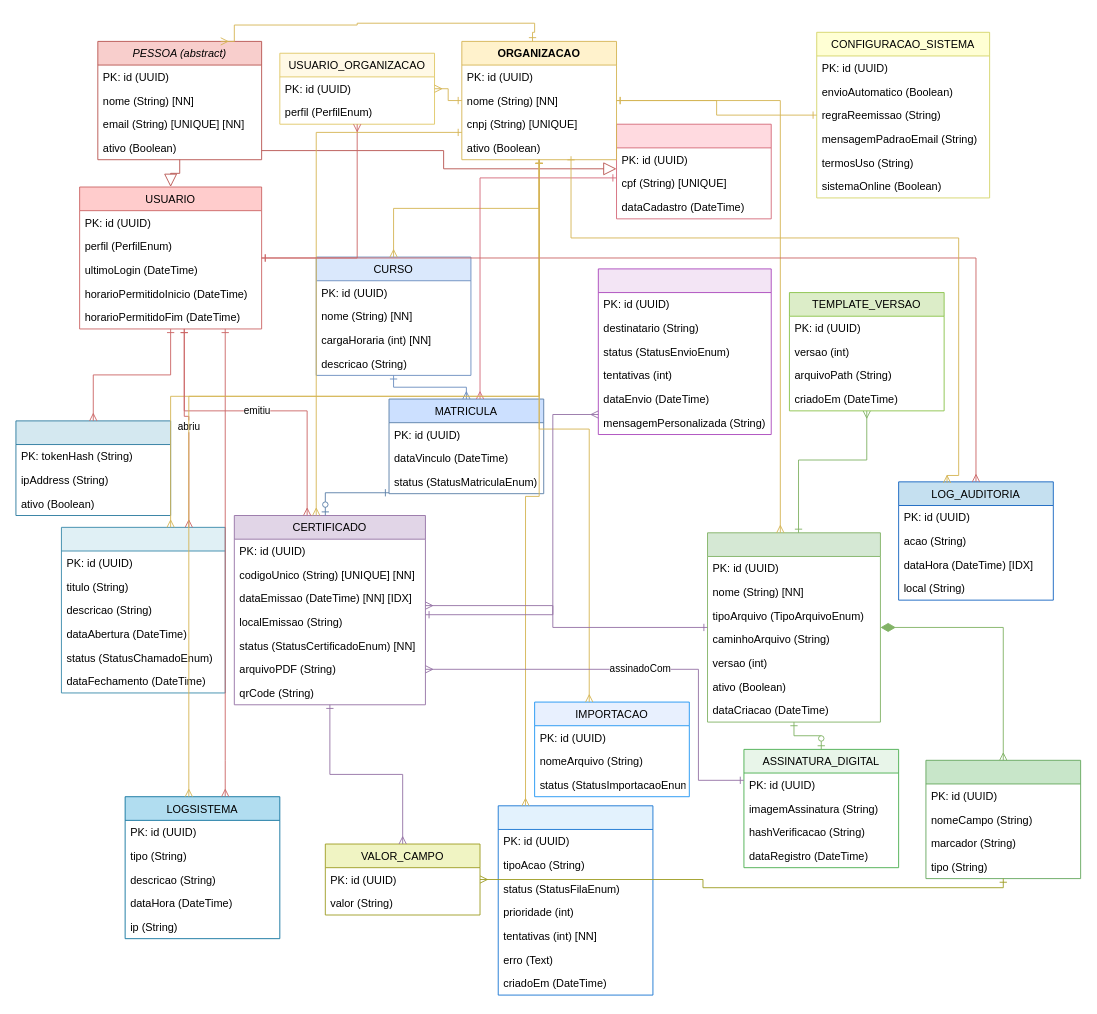
Some shapes in this 1097 by 1014 pixel diagram are drawn without their labels. Each missing label, with the box of its shape:
CAMPO_DINAMICO: (925, 759, 1081, 879)
CHAMADO_SUPORTE: (61, 526, 225, 693)
ENVIO_EMAIL: (597, 268, 771, 435)
FILA_PROCESSAMENTO: (497, 805, 653, 995)
PARTICIPANTE: (616, 123, 771, 219)
SESSAO: (15, 420, 171, 516)
TEMPLATE: (707, 532, 880, 722)
